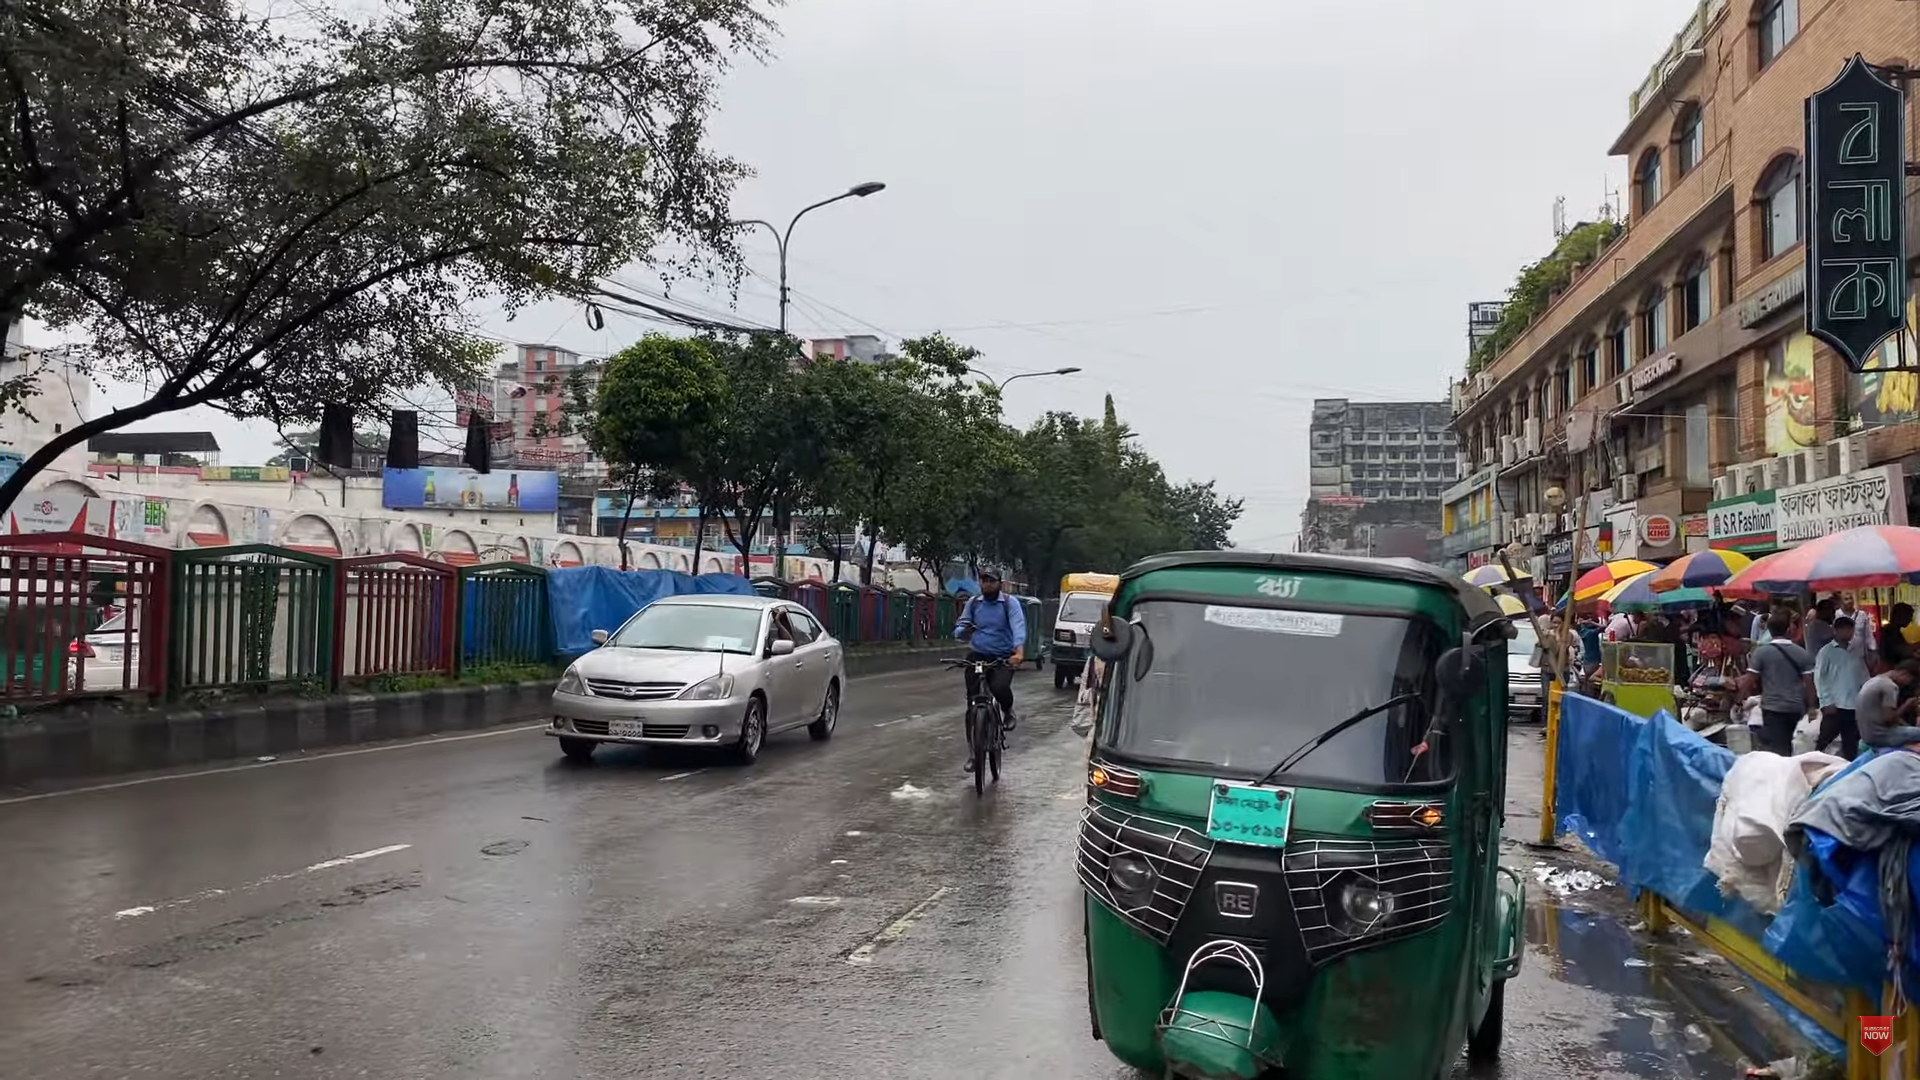CNG: (1106, 564, 1522, 1073)
Car: (541, 585, 851, 771)
